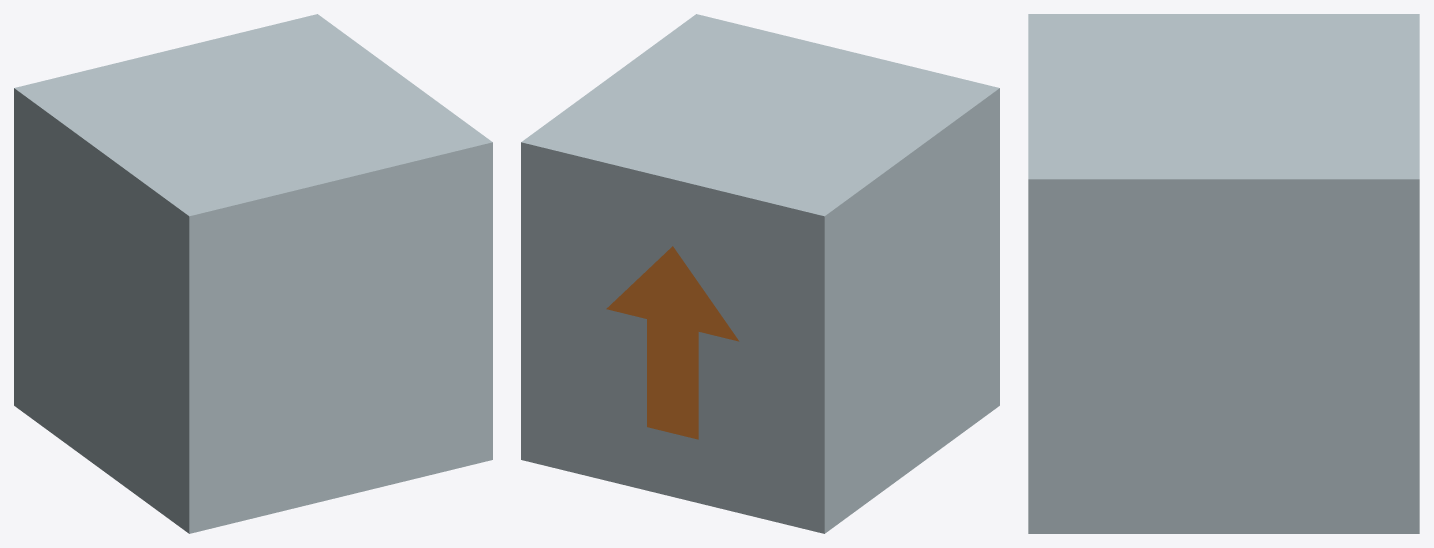
Rendered from scale_reference_1m.glb.
3 renders of one model, left to right at view 1: azimuth 30°, elevation 25°; view 2: azimuth 150°, elevation 25°; view 3: azimuth 270°, elevation 25°, orthographic. The views are drawn at different scales.
Visible parts, largest first — view 1: scale_reference_1m; view 2: scale_reference_1m; view 3: scale_reference_1m.
Part boxes in pixels (x1,y1,x2,y2): scale_reference_1m: (14, 14, 492, 533); scale_reference_1m: (521, 14, 999, 533); scale_reference_1m: (1028, 14, 1419, 533).
Size of the model in its own units: 1 by 1 by 1.
